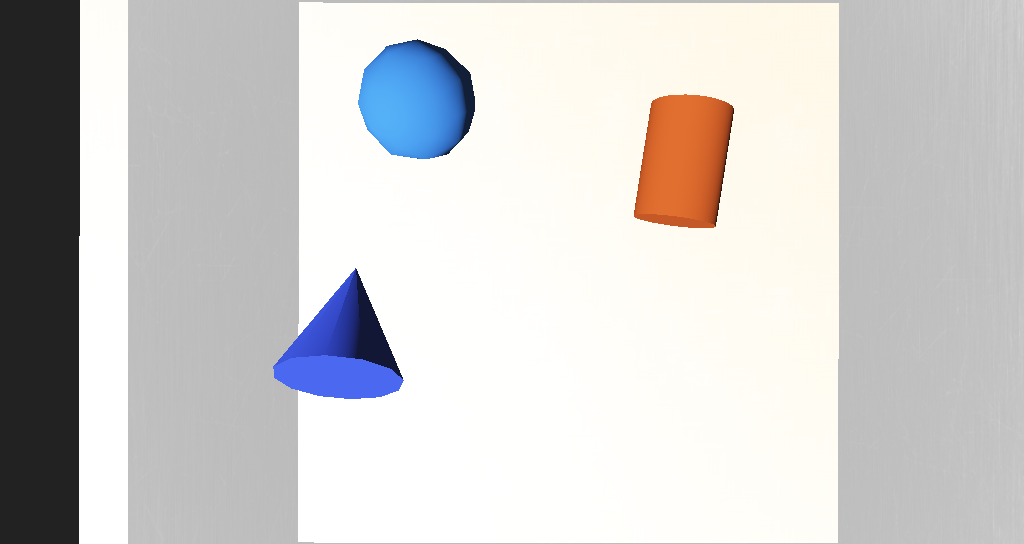cone: (539, 203, 593, 255)
cylinder: (344, 253, 424, 320)
sphere: (394, 184, 455, 227)
